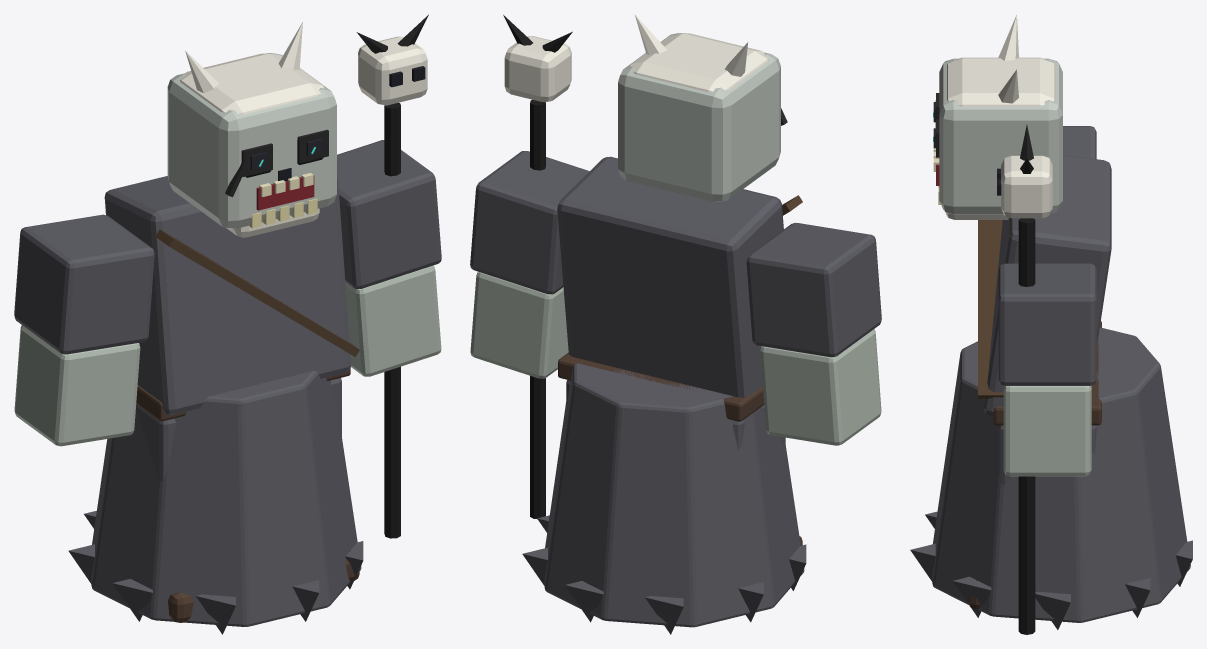
The model's file is lich.glb.
3 renders of one model, left to right at view 1: azimuth 30°, elevation 25°; view 2: azimuth 150°, elevation 25°; view 3: azimuth 270°, elevation 25°, orthographic. The views are drawn at different scales.
Visible parts, largest first — view 1: Torso, RightArm, LeftArm, Cube.002, Head, LeftLeg, Cube.007, Cube.005; view 2: Torso, RightArm, LeftArm, Cube.002, Head; view 3: Torso, RightArm, Cube.002, Head, LeftArm, RightLeg.
Part boxes in pixels (left/top/right/bottom): Torso: left=68, top=176, right=363, bottom=634; RightArm: left=337, top=14, right=441, bottom=538; LeftArm: left=14, top=214, right=154, bottom=446; Cube.002: left=167, top=53, right=336, bottom=228; Head: left=180, top=22, right=324, bottom=237; LeftLeg: left=136, top=405, right=193, bottom=622; Cube.007: left=256, top=175, right=314, bottom=210; Cube.005: left=297, top=129, right=328, bottom=163; Torso: left=522, top=156, right=806, bottom=634; RightArm: left=470, top=15, right=589, bottom=519; LeftArm: left=746, top=222, right=881, bottom=445; Cube.002: left=618, top=33, right=780, bottom=201; Head: left=630, top=15, right=768, bottom=91; Torso: left=910, top=155, right=1192, bottom=629; RightArm: left=997, top=125, right=1096, bottom=634; Cube.002: left=939, top=58, right=1062, bottom=214; Head: left=933, top=14, right=1055, bottom=219; LeftArm: left=1063, top=126, right=1096, bottom=159; RightLeg: left=968, top=425, right=1096, bottom=609.
Bounding box in the file's own units: 5.59 × 7.74 × 3.7.
Materials: 6 (1 with a texture image).
